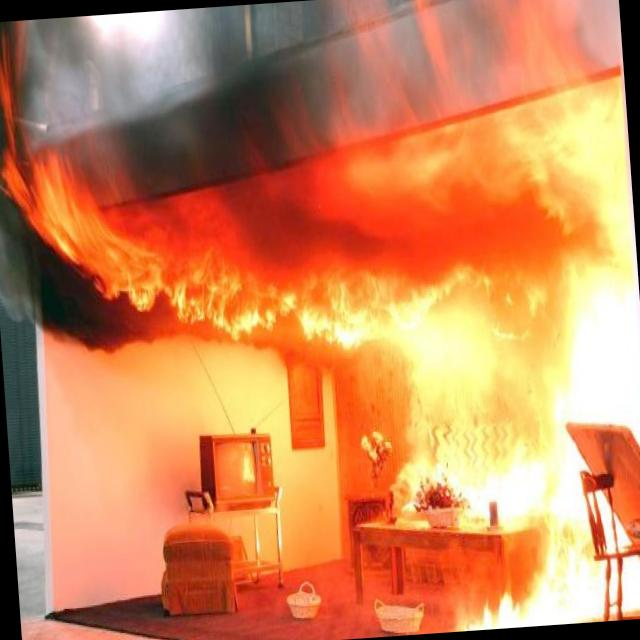Fire_Dangerous: (0, 36, 627, 640)
